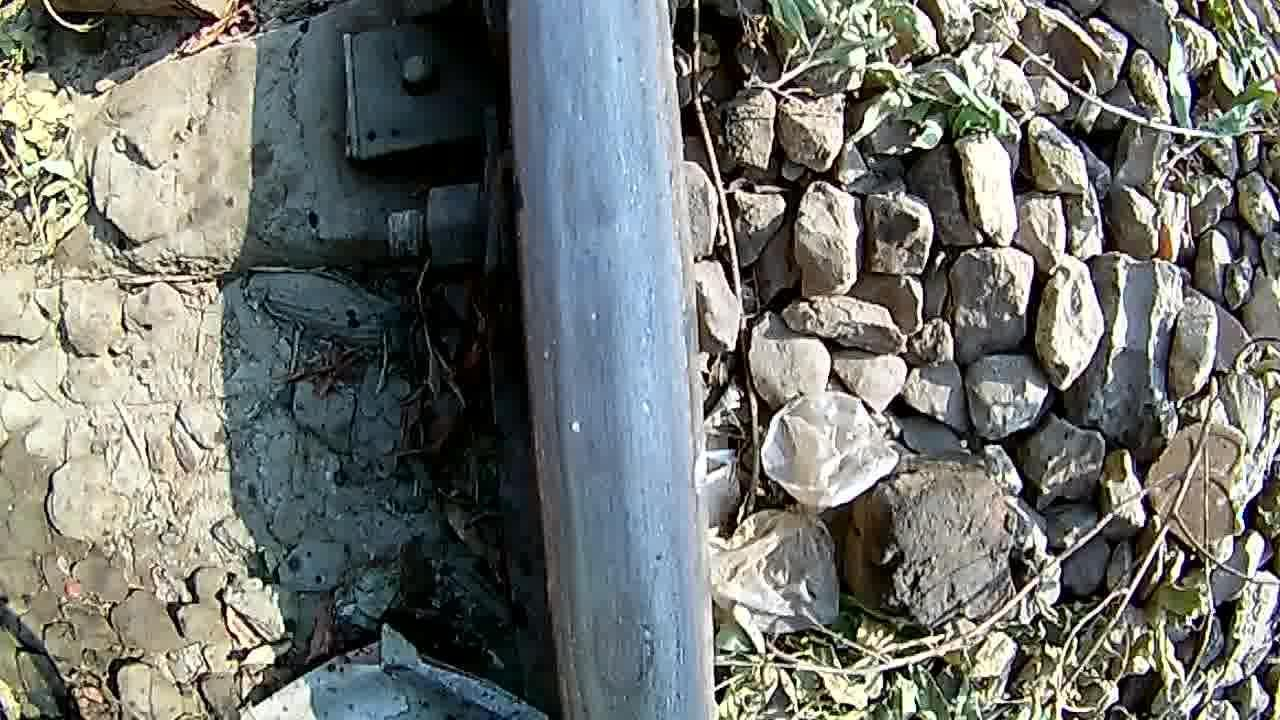crack: (542, 426, 724, 720)
